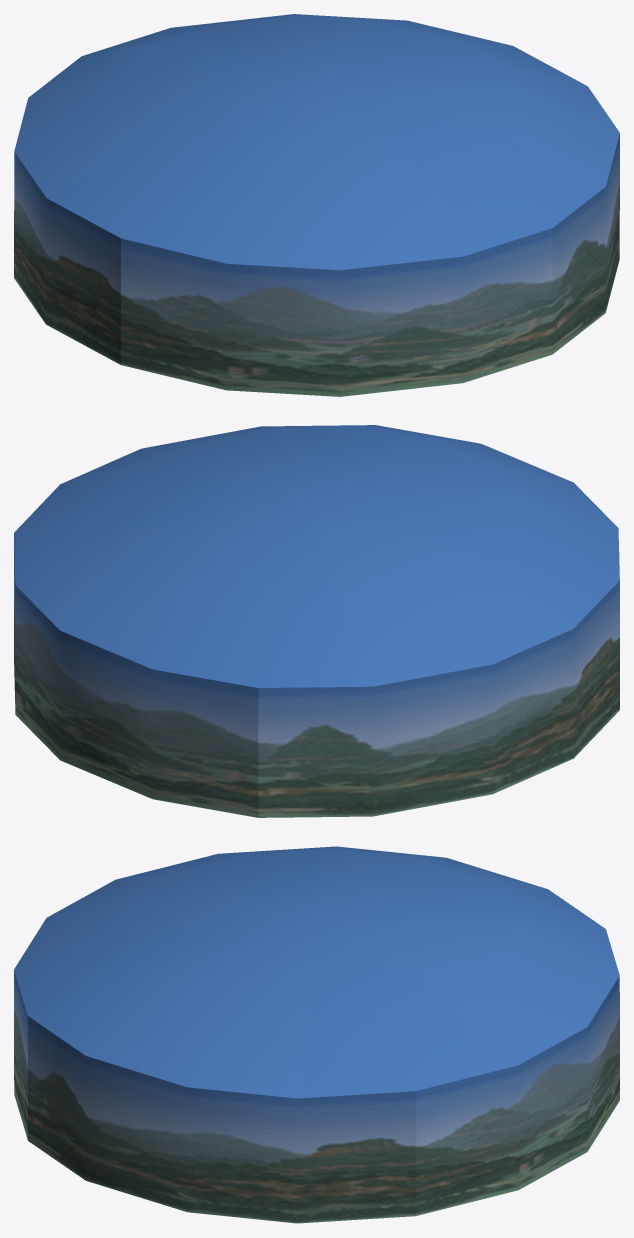
Rendered from konohagukure_village.glb.
The picture shows the model from 3 angles, top to bottom: view 1: azimuth 30°, elevation 25°; view 2: azimuth 150°, elevation 25°; view 3: azimuth 270°, elevation 25°; orthographic projection. The views are drawn at different scales.
Parts seen in each view (by area): view 1: Object_3; view 2: Object_3; view 3: Object_3.
Boxes of the visible parts, left/top/right/bottom form: Object_3: left=14, top=14, right=619, bottom=396; Object_3: left=14, top=425, right=619, bottom=817; Object_3: left=14, top=846, right=619, bottom=1223.
Bounding box in the file's own units: 193 × 74.36 × 197.
35 materials, 34 textured.
